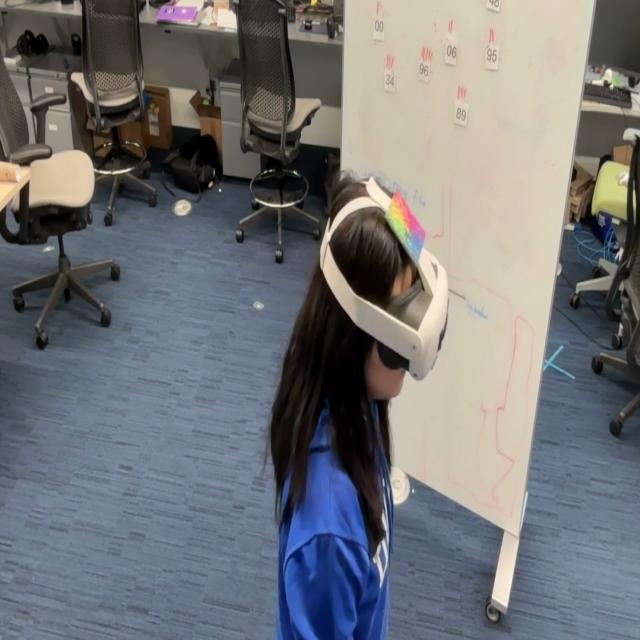Headset: (319, 187, 449, 382)
Marker: (386, 193, 435, 276)
